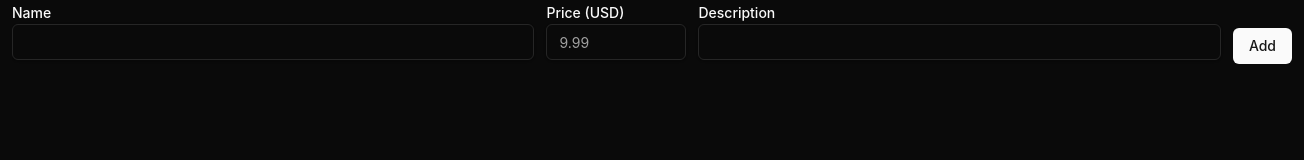
Test case: ProductCreateForm › shows validation errors when price is invalid
Type "Widget" into the field labelled "Name" at (273, 42), box [12,24,534,60]
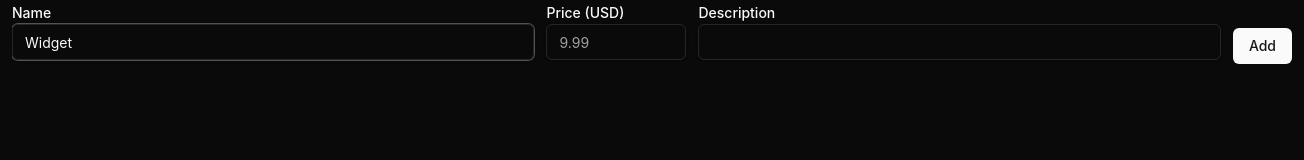
Type "invalid-price" into the field labelled "Price (USD)" at (616, 42), box [546,24,686,60]
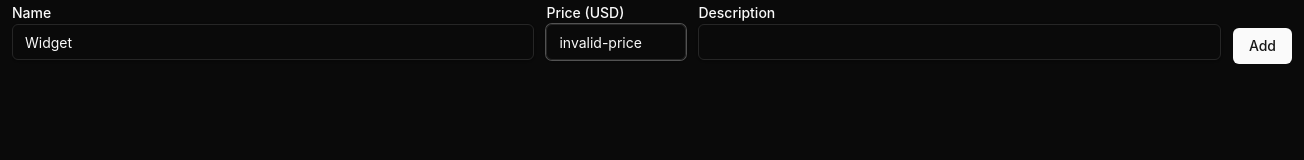
Click the button "Add" at (1262, 46), box [1233,28,1292,64]
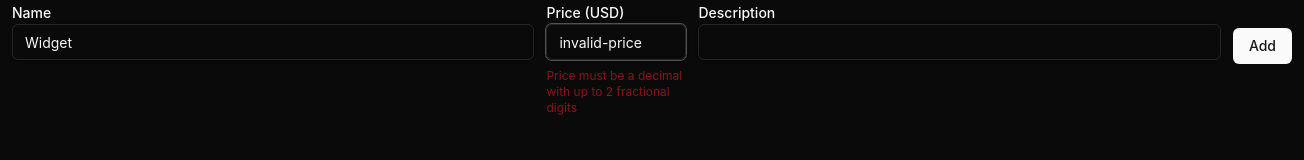
Now the text "Price must be a decimal with up to 2 fractional digits" is shown, box [546,68,686,116]
